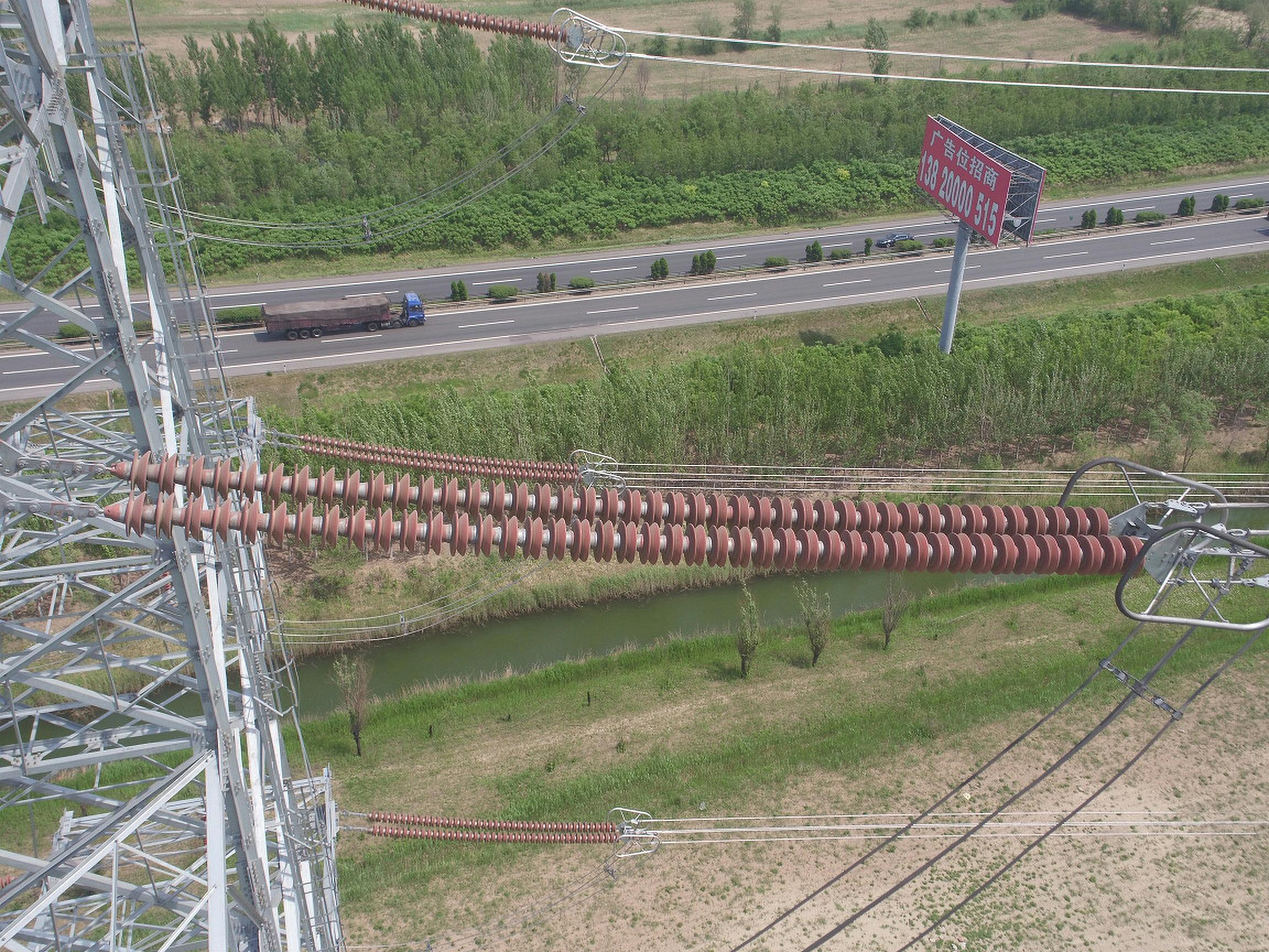insulator: (117, 442, 1153, 582), (301, 431, 583, 485), (340, 1, 569, 45), (365, 809, 622, 846)
